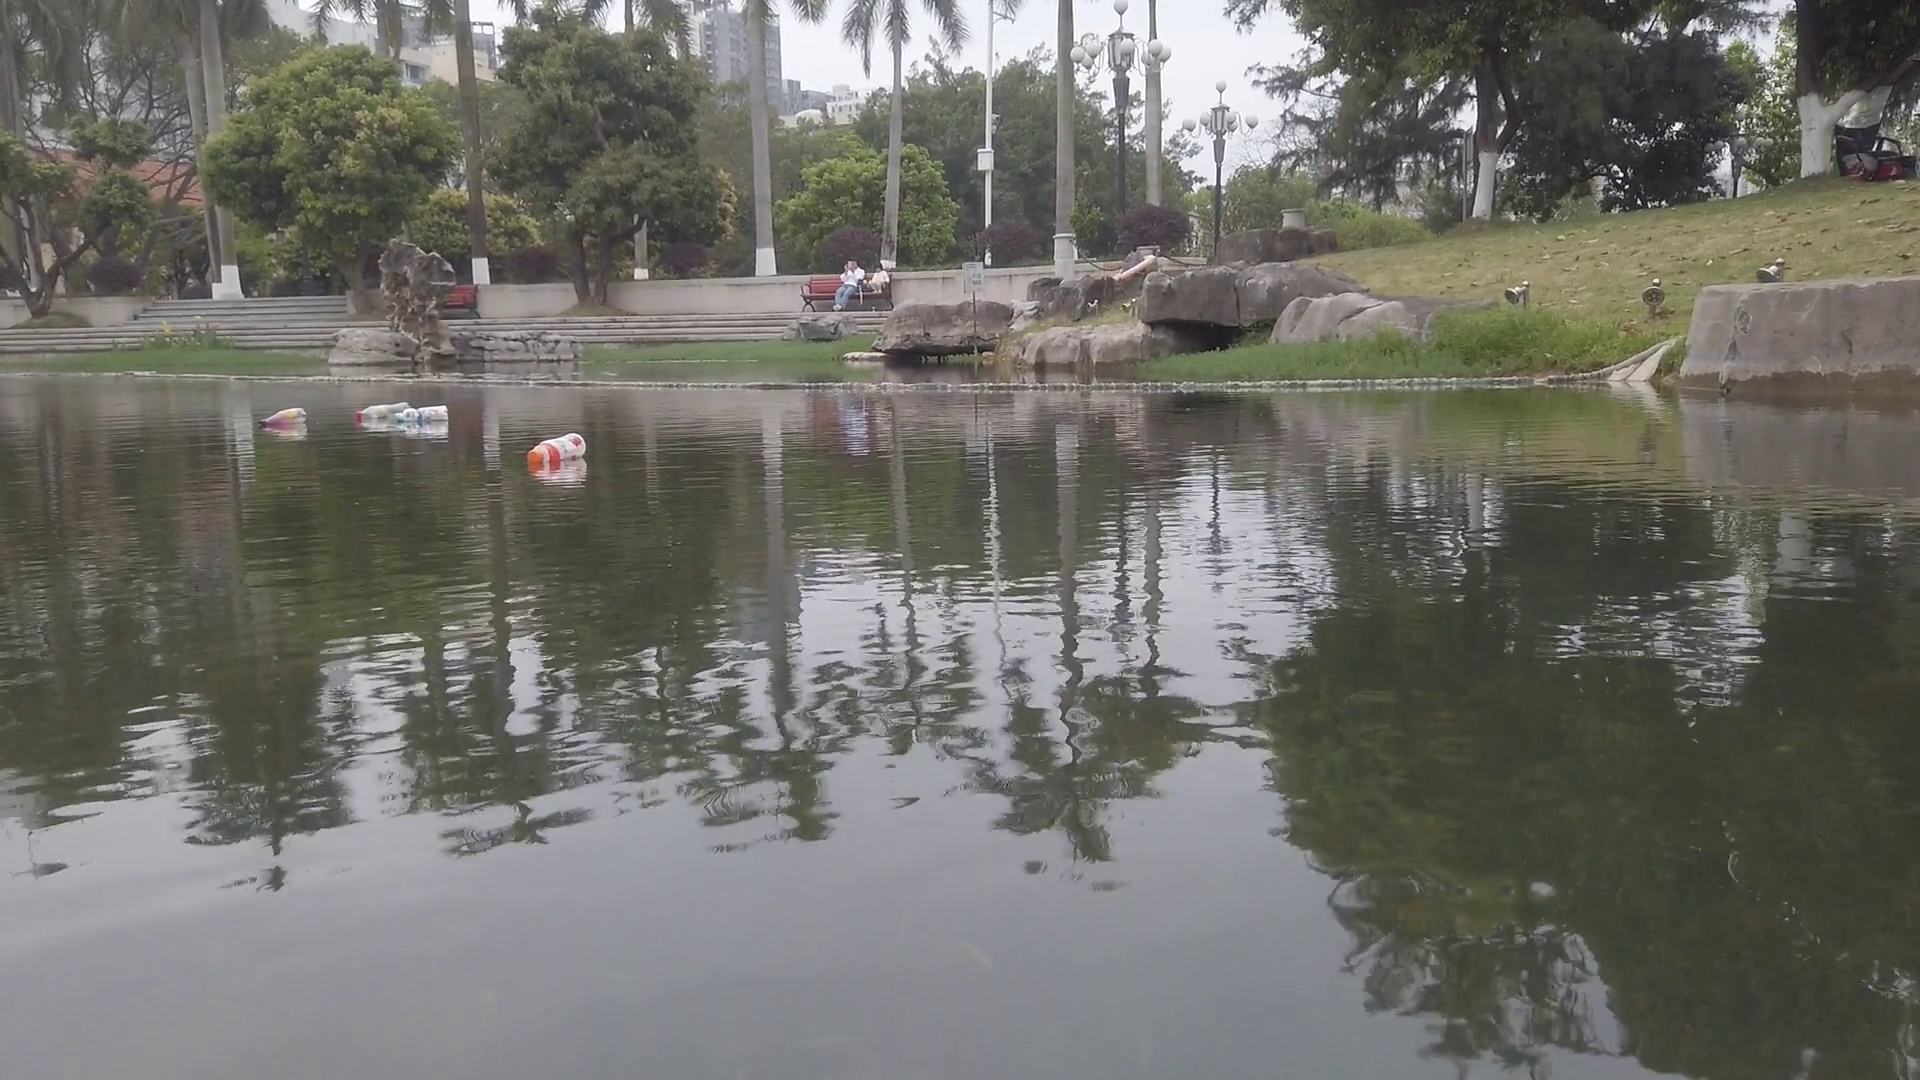bottle: (524, 433, 589, 464), (353, 402, 410, 426), (258, 407, 309, 433), (397, 405, 448, 422)
